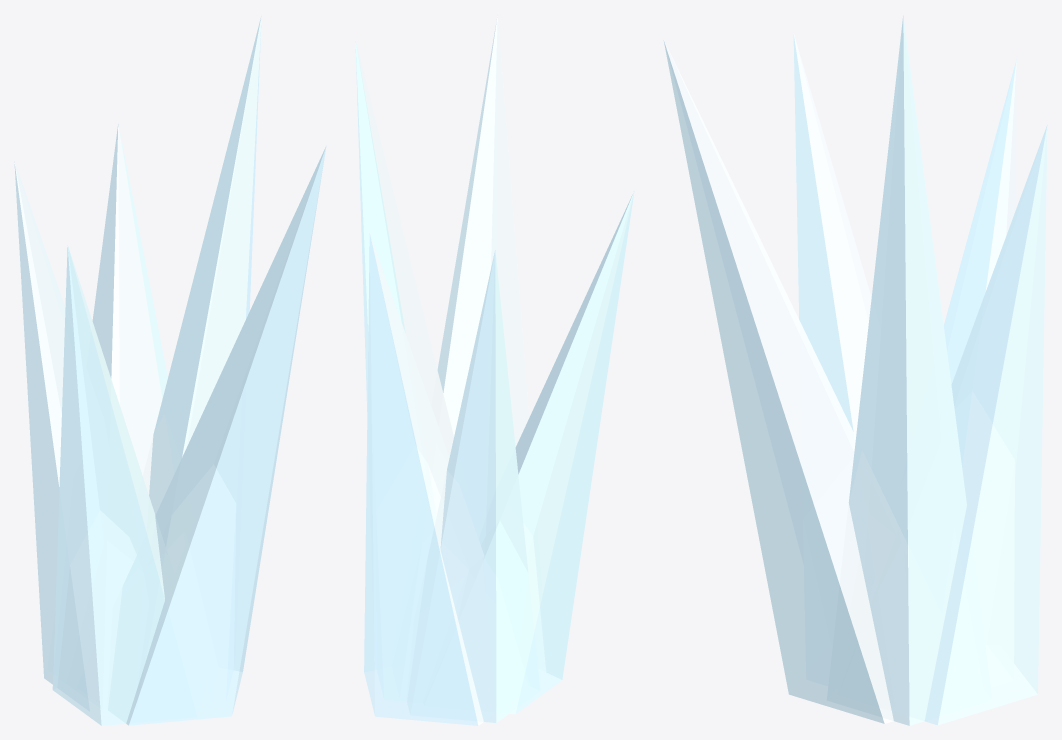
The model's file is IceShard_Hazard.glb.
The picture shows the model from 3 angles, left to right: view 1: azimuth 30°, elevation 25°; view 2: azimuth 150°, elevation 25°; view 3: azimuth 270°, elevation 25°; orthographic projection. The views are drawn at different scales.
Visible parts, largest first — view 1: IceShard_Hazard; view 2: IceShard_Hazard; view 3: IceShard_Hazard.
Boxes of the visible parts, x1,y1,x2,y2 form: IceShard_Hazard: (14,15,326,725); IceShard_Hazard: (355,15,634,725); IceShard_Hazard: (663,15,1047,725).
Bounding box in the file's own units: 0.2249 × 0.5708 × 0.2742.
